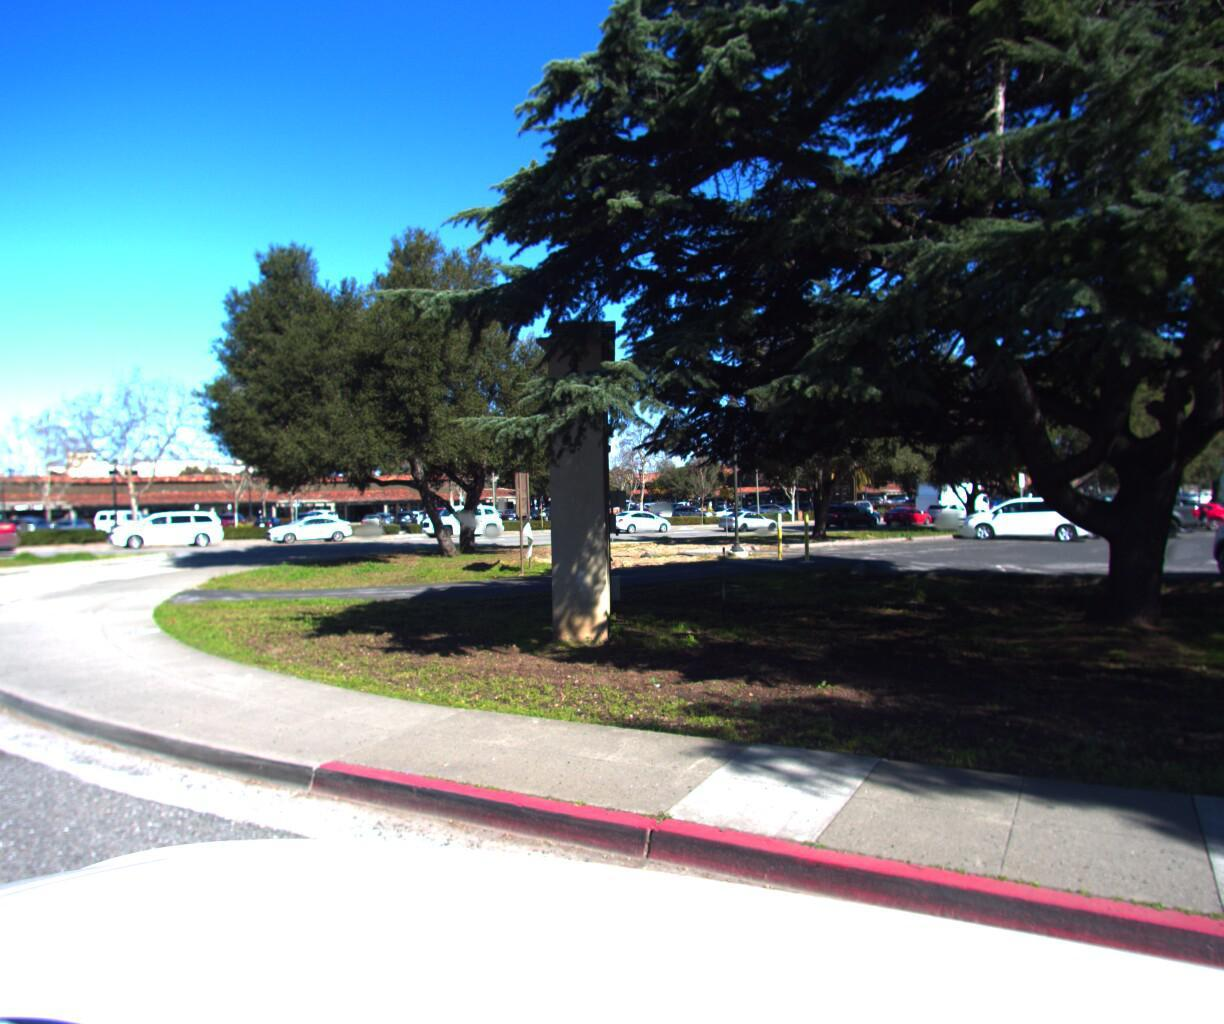car: (953, 495, 1098, 539), (101, 510, 227, 552), (411, 496, 504, 539), (261, 513, 357, 545), (598, 506, 675, 533), (711, 509, 782, 532), (813, 506, 877, 530), (879, 503, 937, 525), (0, 513, 23, 563), (923, 502, 978, 522), (0, 521, 22, 565), (753, 500, 801, 516)
truck: (907, 475, 997, 522)
